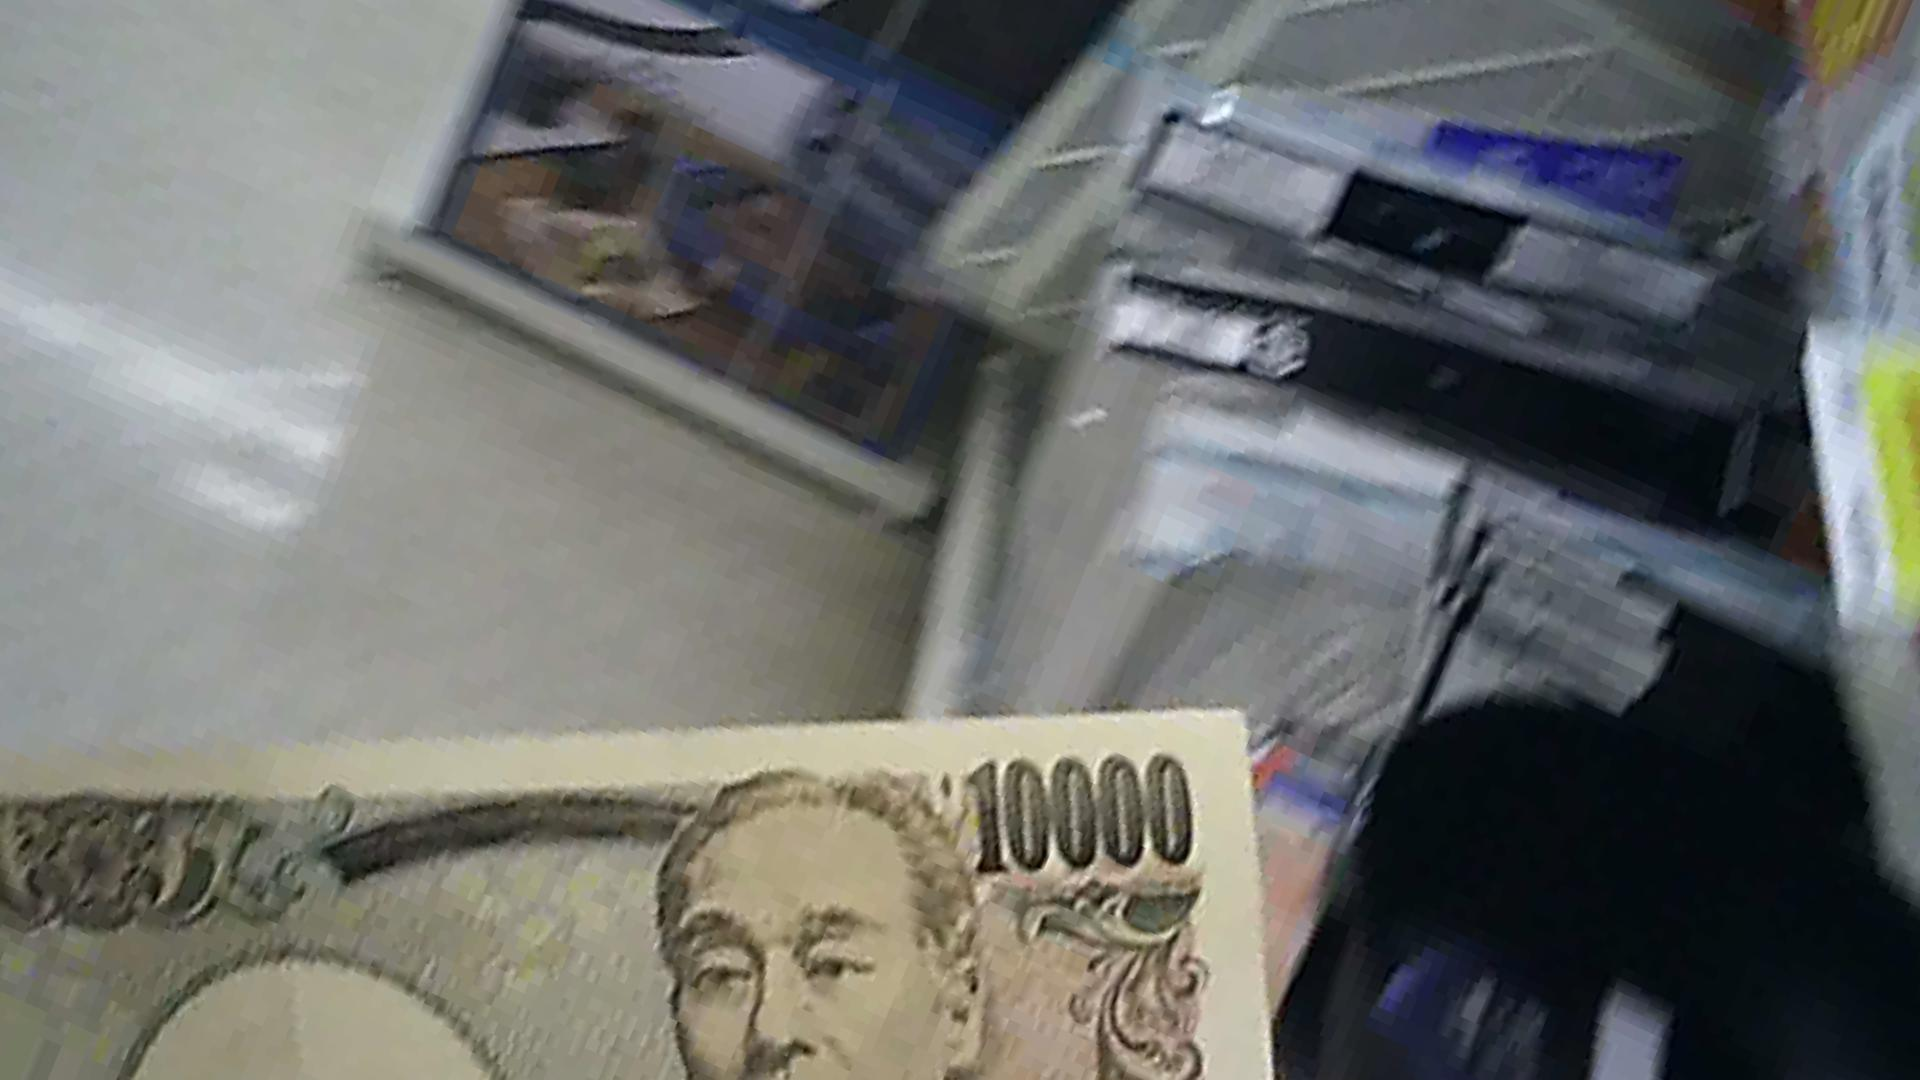10,000 Yen: (15, 661, 1255, 1079)
